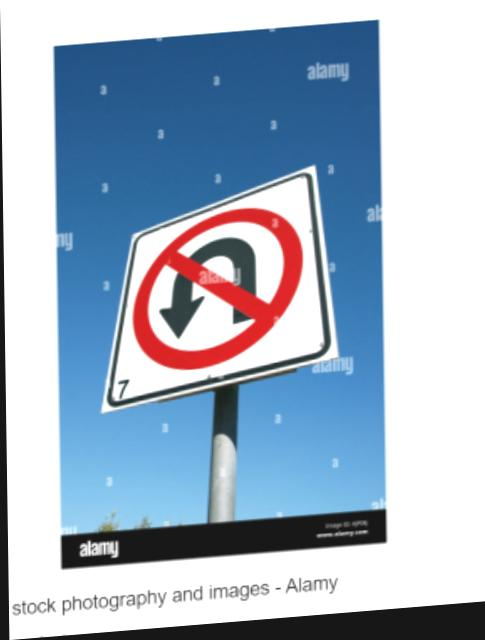not_u_turn_left: (114, 181, 312, 370)
